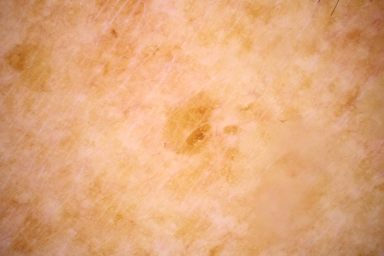nevus: (161, 96, 210, 154)
